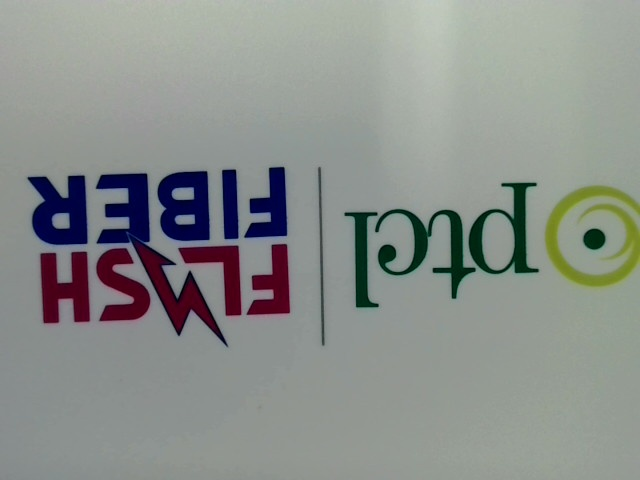BF_PTCL: (331, 177, 639, 317)
